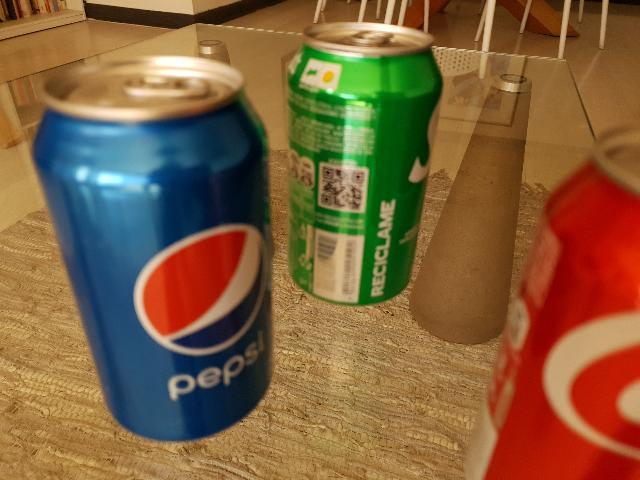coke: (456, 120, 640, 480)
pepsi: (32, 51, 280, 438)
sprite: (290, 25, 442, 307)
